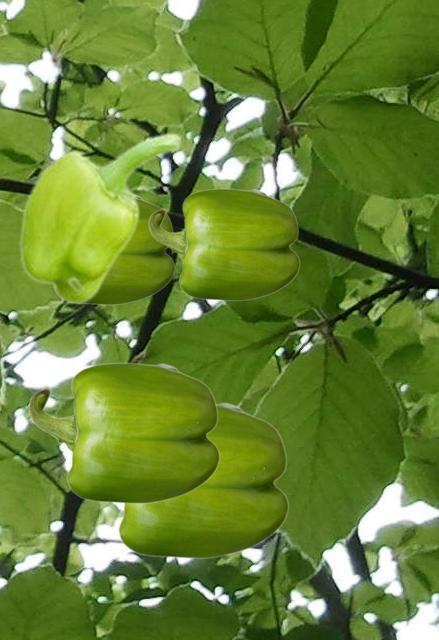bell_pepper: (18, 131, 182, 304), (28, 362, 219, 503), (117, 401, 288, 558), (148, 188, 299, 300), (73, 195, 174, 304)
